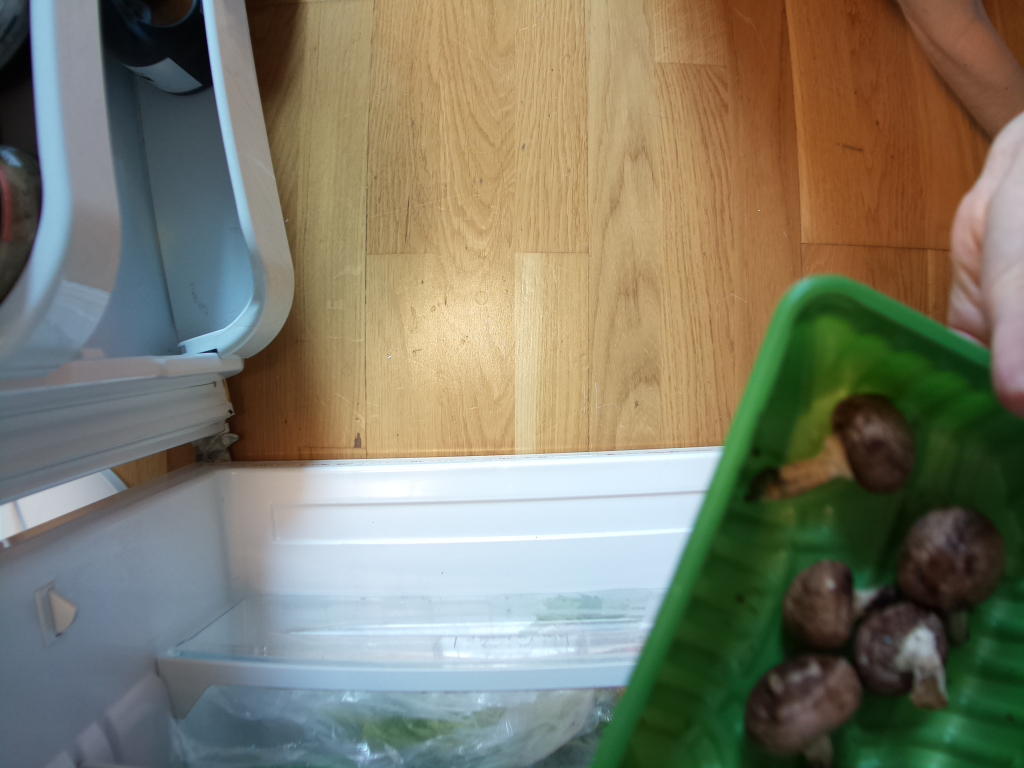mushrooms-bad: (590, 267, 1024, 768)
